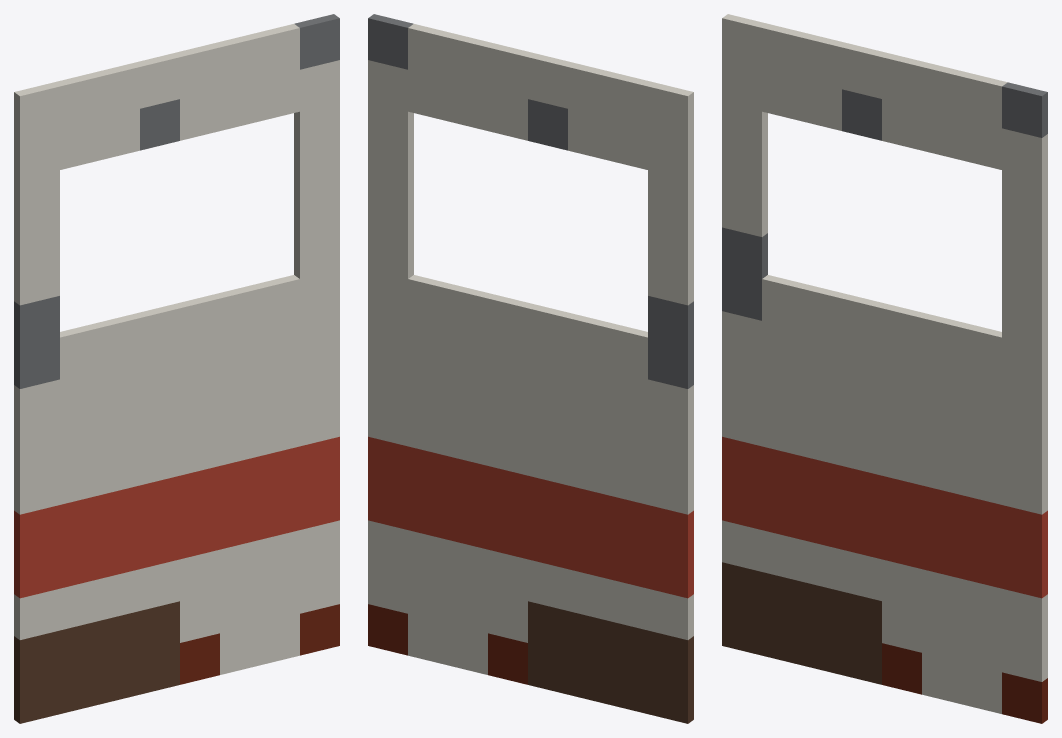
Rendered from abandoned_ambulance_sliding_door.glb.
3 renders of one model, left to right at view 1: azimuth 30°, elevation 25°; view 2: azimuth 150°, elevation 25°; view 3: azimuth 330°, elevation 25°, orthographic.
Visible parts, largest first — view 1: body:compound; view 2: body:compound; view 3: body:compound.
Part boxes in pixels (bbox=[...]): body:compound: bbox=[14, 14, 339, 723]; body:compound: bbox=[368, 14, 693, 723]; body:compound: bbox=[722, 14, 1047, 723].
Bounding box in the file's own units: 1 × 1.88 × 0.0312.
